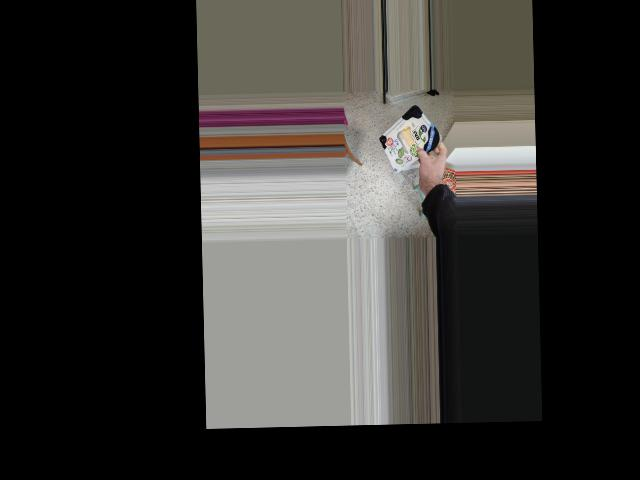cheese: (372, 106, 443, 168)
